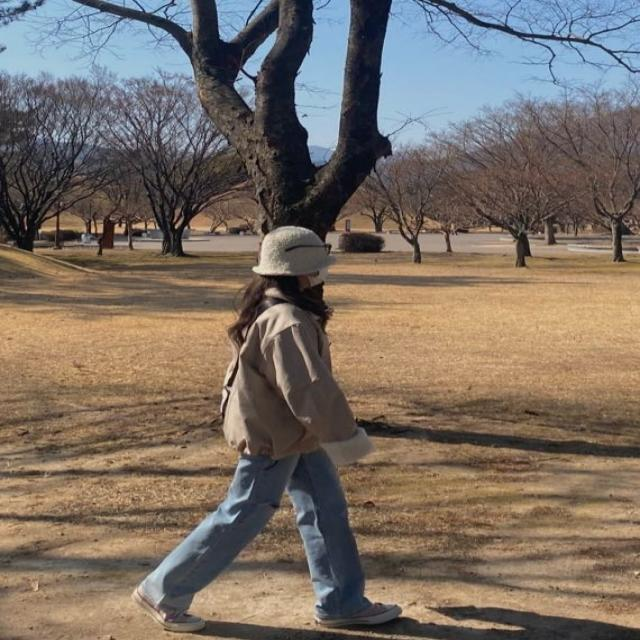denimpants: (136, 446, 362, 620)
jacket: (218, 288, 373, 464)
